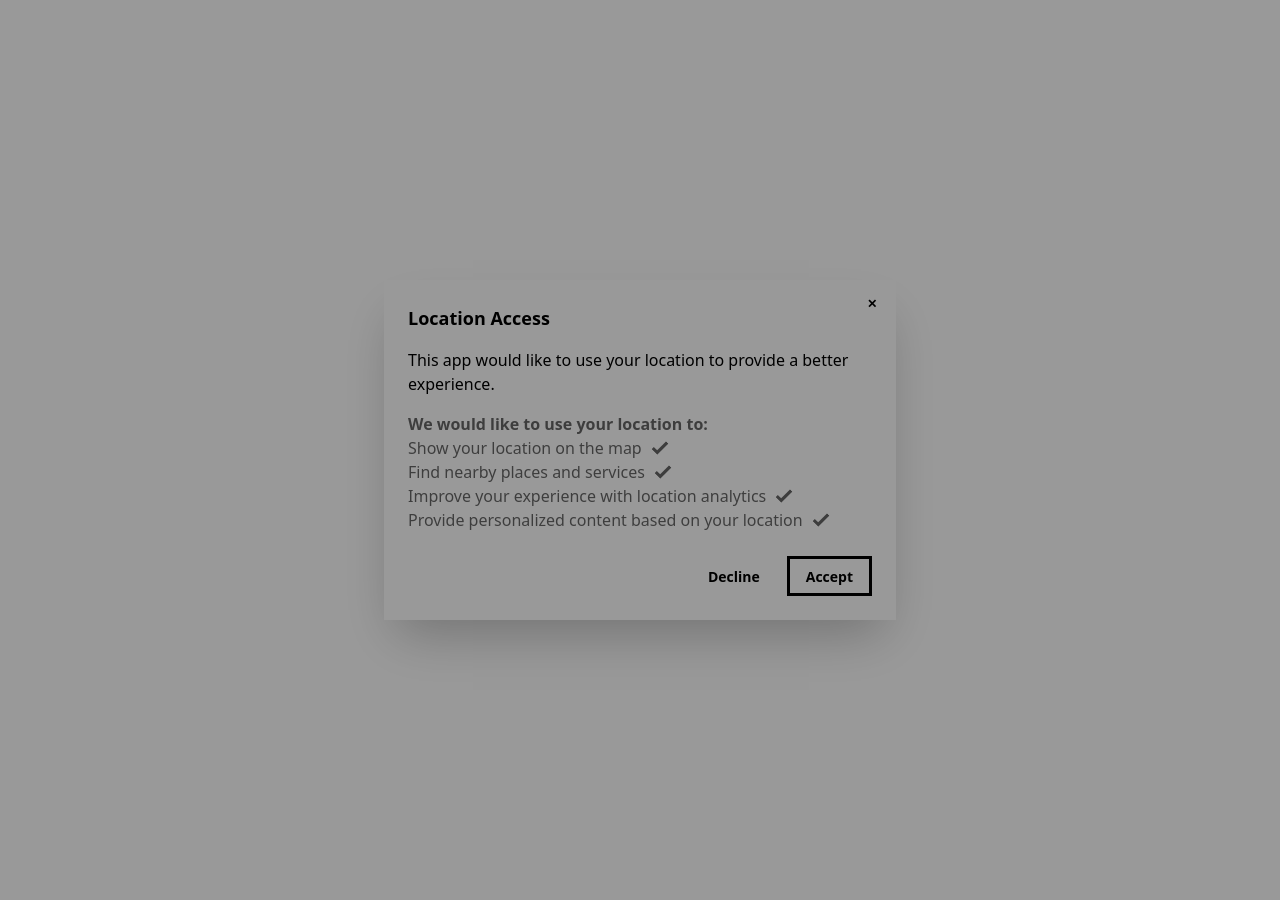
Test case: GeolocationConsent › should disable accept button when no purposes selected
This screenshot has width=1280, height=900.
Click the checkbox labelled "Show your location on the map".
click(660, 448)  # box [648,436,672,460]
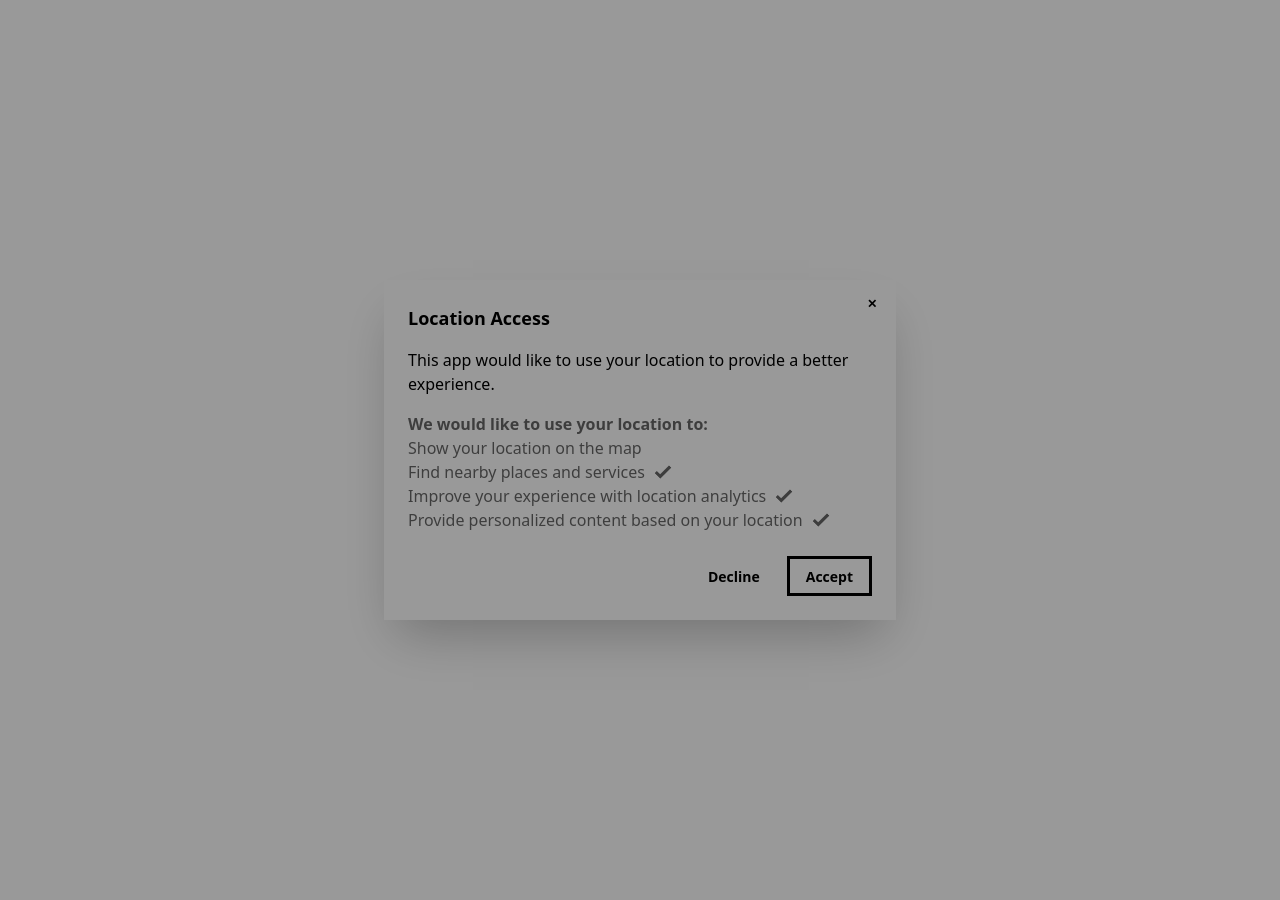
Click the checkbox labelled "Find nearby places and services".
click(663, 472)  # box [651,460,675,484]
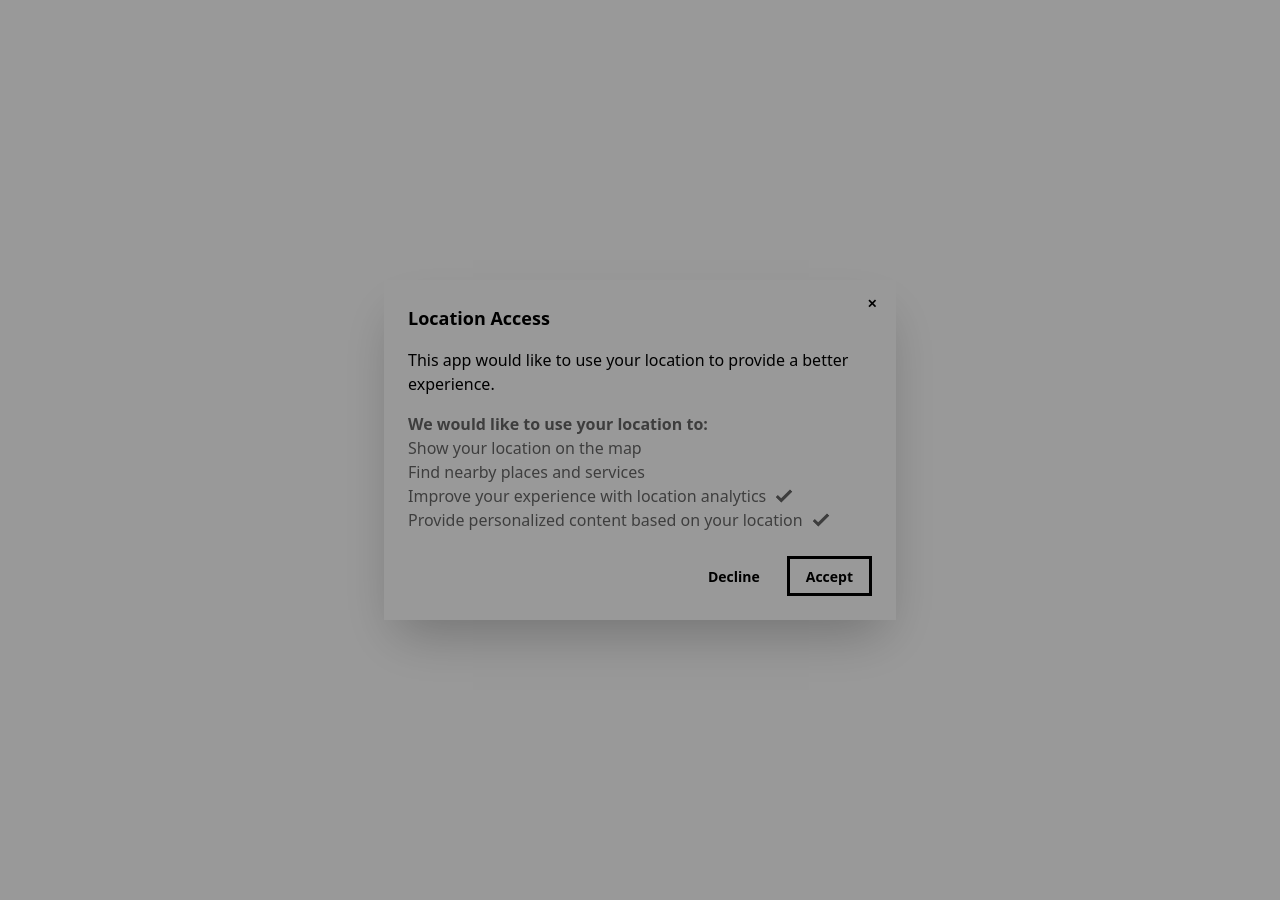
Click the checkbox labelled "Improve your experience with location analytics".
click(784, 496)  # box [772,484,796,508]
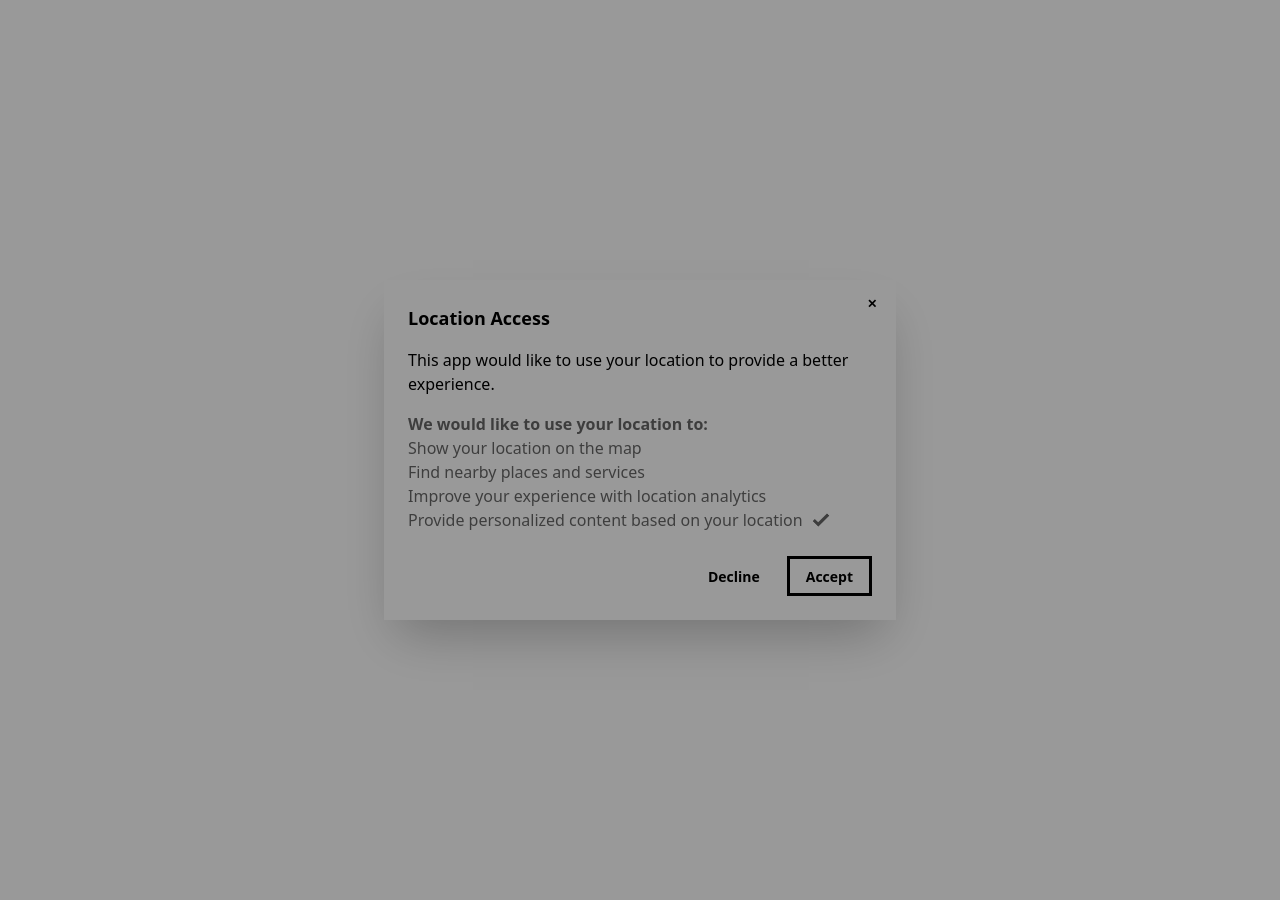
Click the checkbox labelled "Provide personalized content based on your location".
click(821, 520)  # box [809,508,833,532]
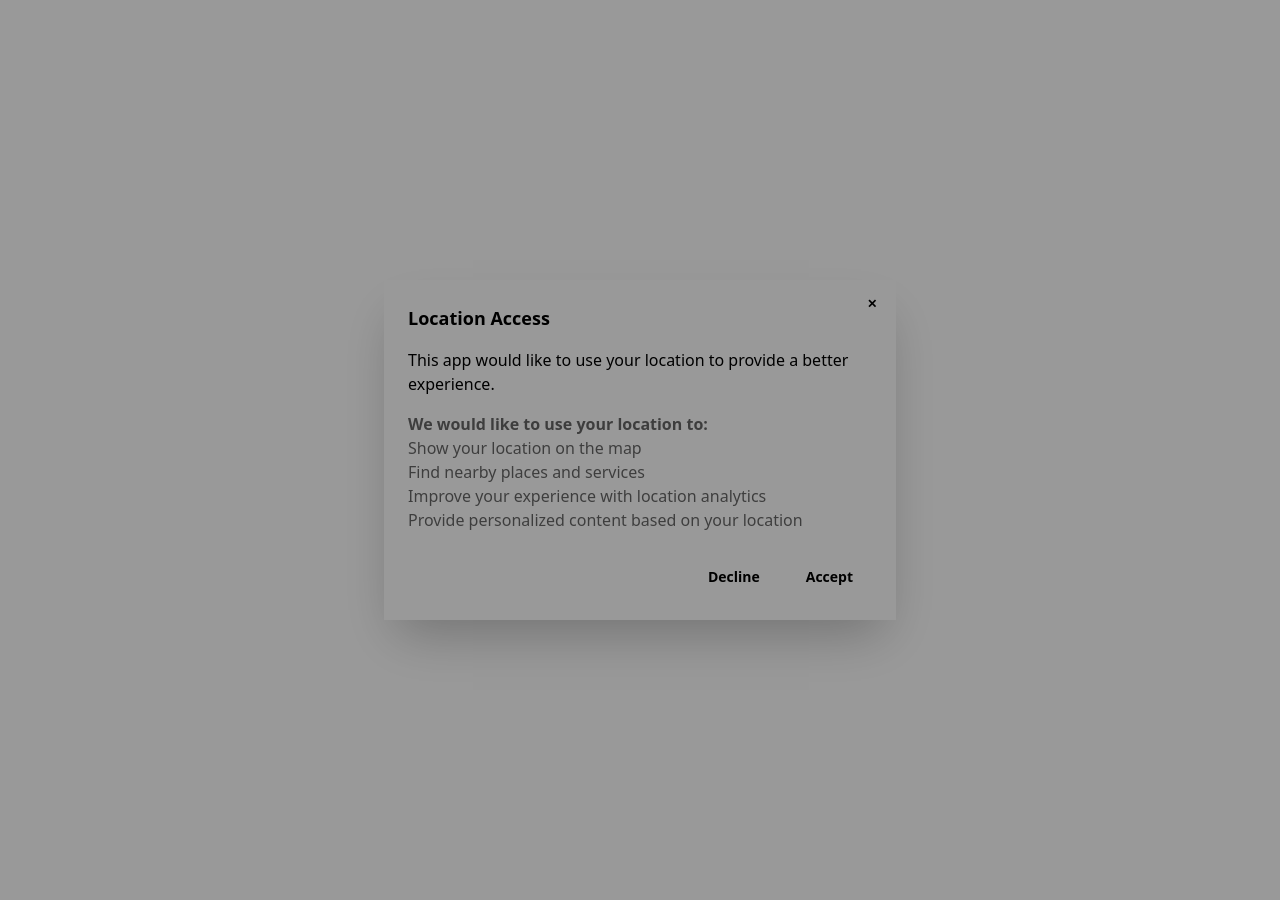
Expected: the button "Accept" is disabled, [787,556,872,596]
